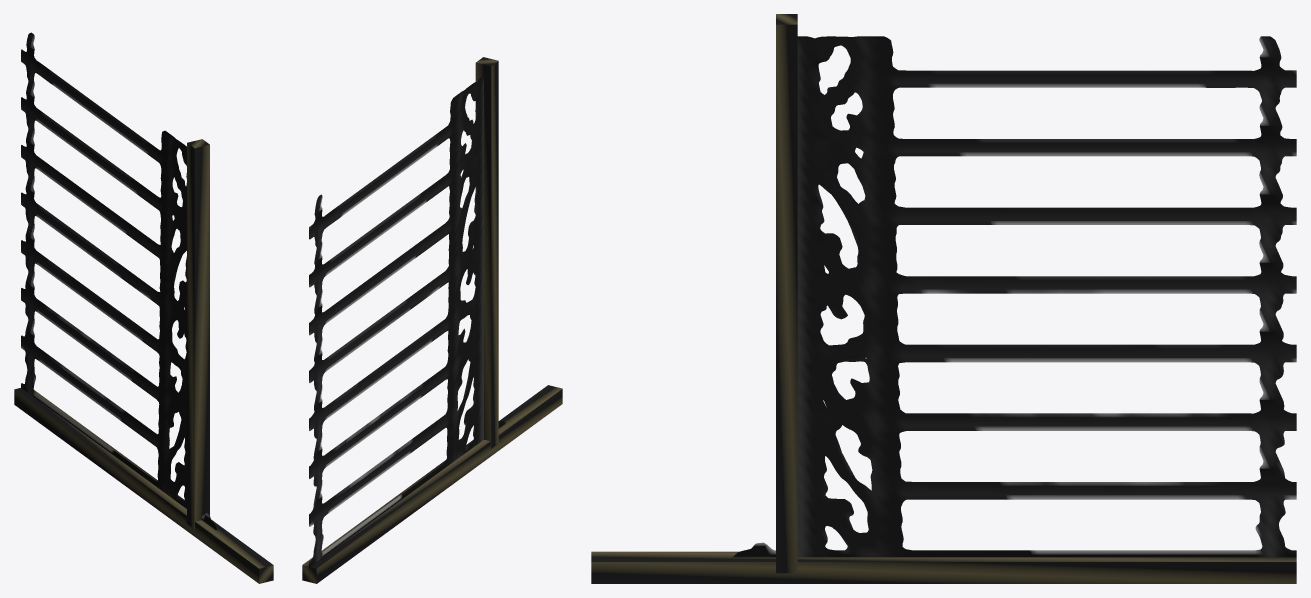
Rendered from pz_fence_png_fencing_01_2.obj.
3 views of the same model, side by side, from view 1: azimuth 30°, elevation 25°; view 2: azimuth 150°, elevation 25°; view 3: azimuth 270°, elevation 25° (orthographic). The views are drawn at different scales.
Size of the model in its own units: 0.042 by 1.02 by 1.16.
Materials: 1 (1 with a texture image).
